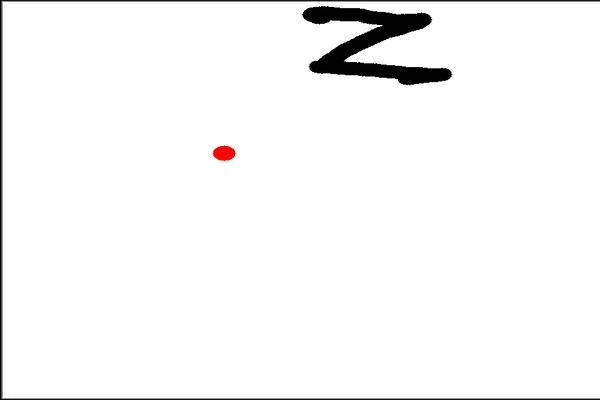Z: (298, 3, 460, 91)
